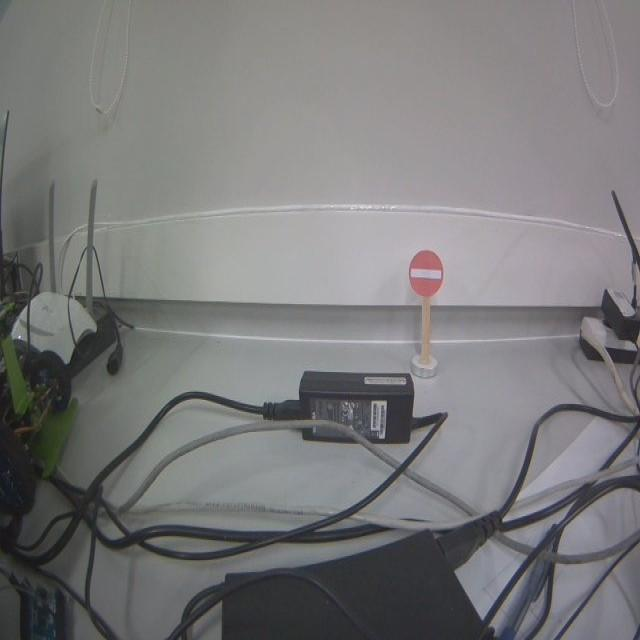Dilarang Masuk: (408, 250, 443, 298)
